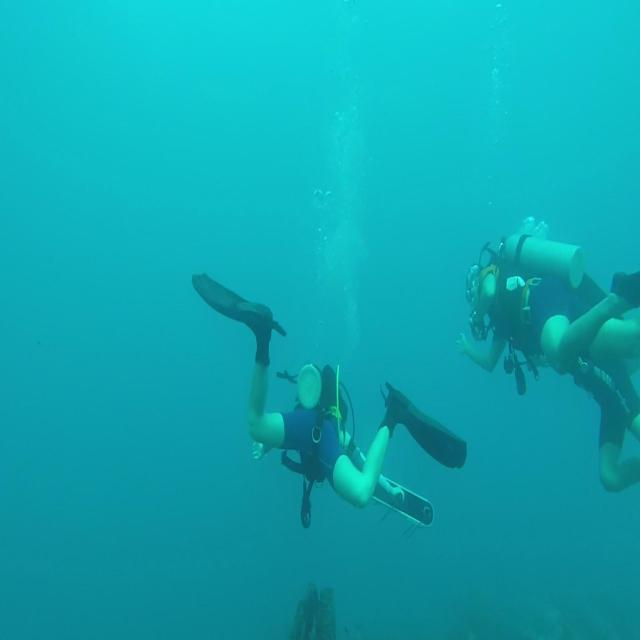human: (191, 270, 467, 531), (456, 222, 639, 493)
